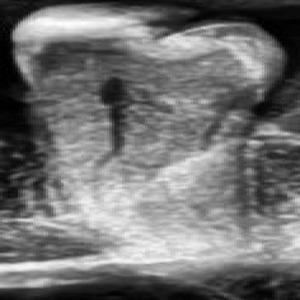tooth: (0, 0, 288, 238)
